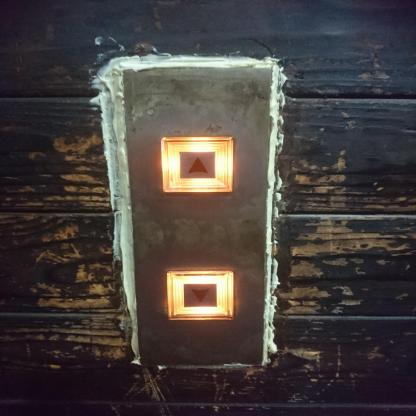down: (163, 267, 236, 322)
up: (158, 135, 236, 193)
